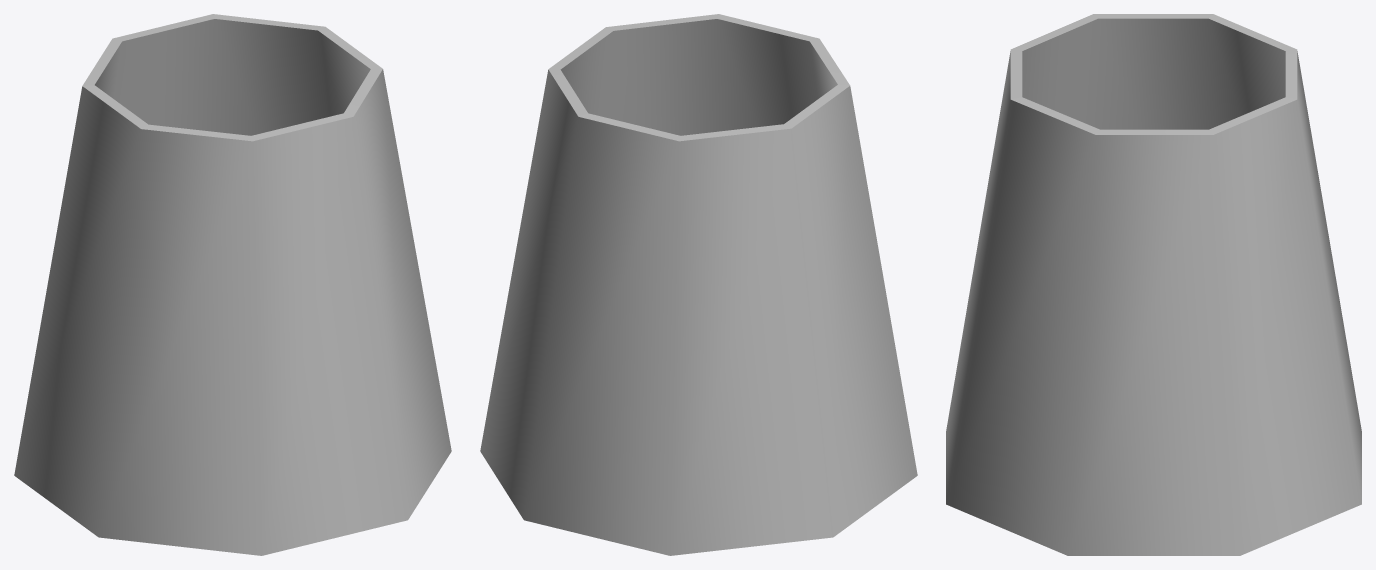
The model's file is Itr_Lamp_Cap1_01.FBX.
3 views of the same model, side by side, from view 1: azimuth 30°, elevation 25°; view 2: azimuth 150°, elevation 25°; view 3: azimuth 270°, elevation 25° (orthographic). The views are drawn at different scales.
Parts seen in each view (by area): view 1: Itr_Lamp_Cap1_01; view 2: Itr_Lamp_Cap1_01; view 3: Itr_Lamp_Cap1_01.
Part boxes in pixels (x1=…): Itr_Lamp_Cap1_01: x1=14, y1=14, x2=451, y2=555; Itr_Lamp_Cap1_01: x1=480, y1=14, x2=917, y2=555; Itr_Lamp_Cap1_01: x1=946, y1=14, x2=1361, y2=555.
Size of the model in its own units: 8.48 by 8.86 by 8.48.
